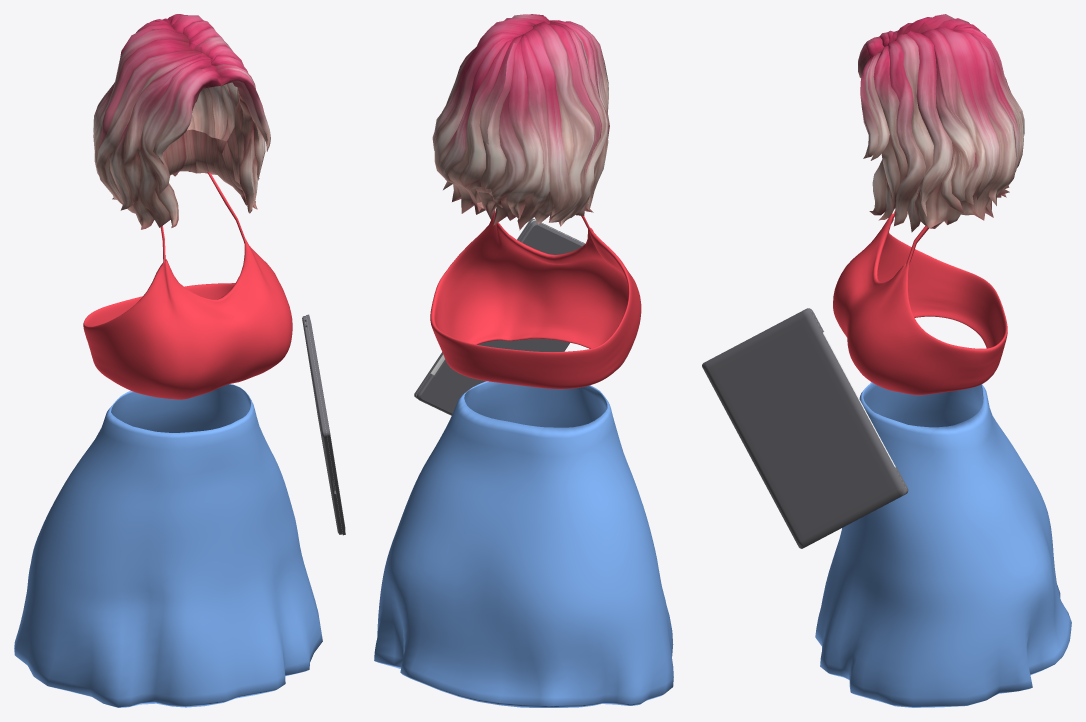
File: out-clothes.fbx
The picture shows the model from 3 angles, left to right: view 1: azimuth 30°, elevation 25°; view 2: azimuth 150°, elevation 25°; view 3: azimuth 270°, elevation 25°; orthographic projection. The views are drawn at different scales.
Visible parts, largest first — view 1: etek.tek, saç.tek, bluz2.tek, macBook_BottomPart; view 2: etek.tek, saç.tek, bluz2.tek, macBook_BottomPart; view 3: etek.tek, saç.tek, macBook_BottomPart, bluz2.tek.
Boxes of the visible parts, x1=… form: etek.tek: x1=14, y1=384, x2=322, y2=707; saç.tek: x1=93, y1=14, x2=270, y2=229; bluz2.tek: x1=83, y1=172, x2=292, y2=399; macBook_BottomPart: x1=302, y1=314, x2=345, y2=535; etek.tek: x1=374, y1=381, x2=673, y2=707; saç.tek: x1=432, y1=14, x2=609, y2=230; bluz2.tek: x1=430, y1=210, x2=641, y2=389; macBook_BottomPart: x1=414, y1=218, x2=585, y2=415; etek.tek: x1=815, y1=382, x2=1071, y2=707; saç.tek: x1=858, y1=14, x2=1024, y2=232; macBook_BottomPart: x1=702, y1=308, x2=908, y2=548; bluz2.tek: x1=833, y1=210, x2=1007, y2=395.
Bounding box in the file's own units: 0.4621 × 1.04 × 0.5511.
11 materials, 1 textured.
